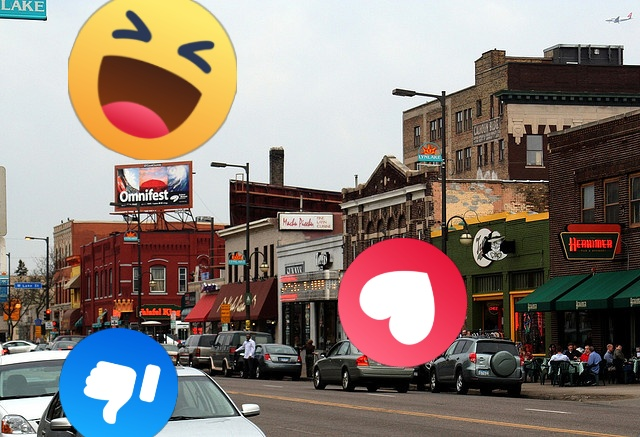haha: (68, 0, 237, 160)
like: (59, 328, 178, 437)
love: (338, 238, 467, 367)
